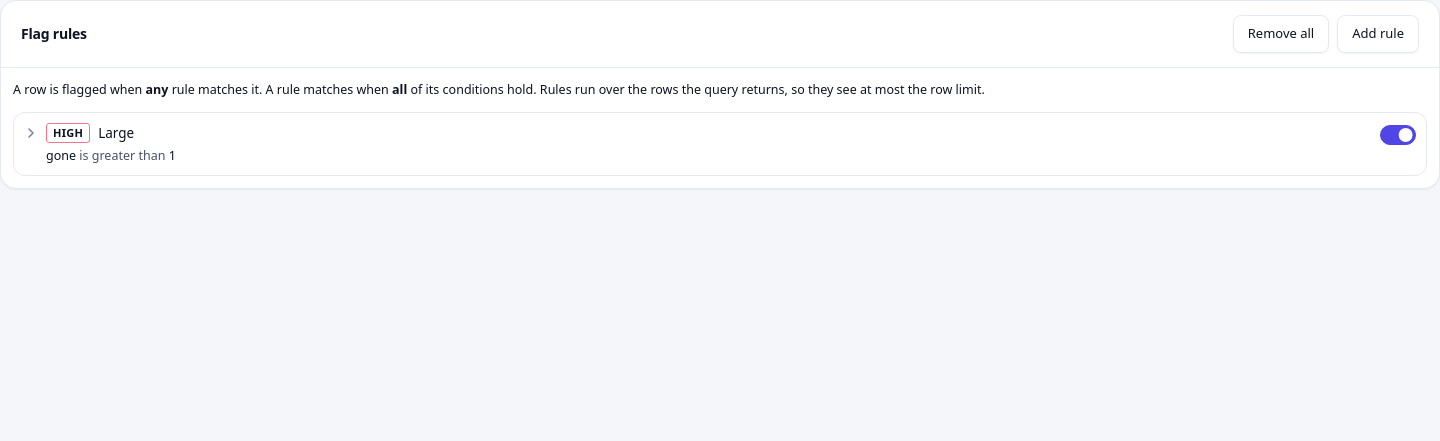
Test: FlagRuleEditor › keeps a column the result no longer returns, marked as missing
Click the button "high Large gone is greater than 1" at (68, 133), box [24, 123, 1372, 164]
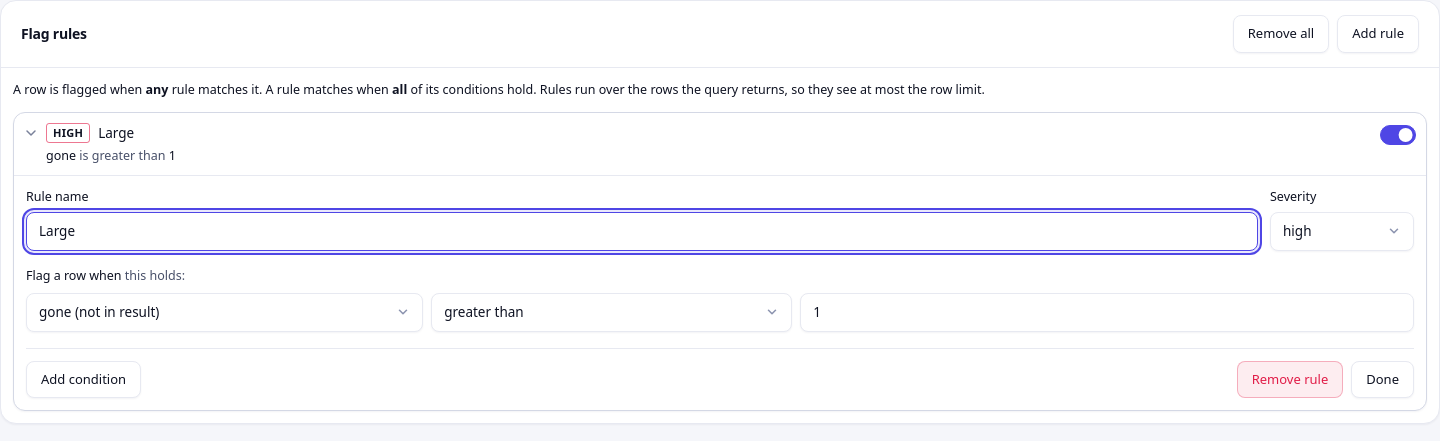
Now the dropdown named "Column" shows "gone (not in result)", box [26, 293, 423, 332]
